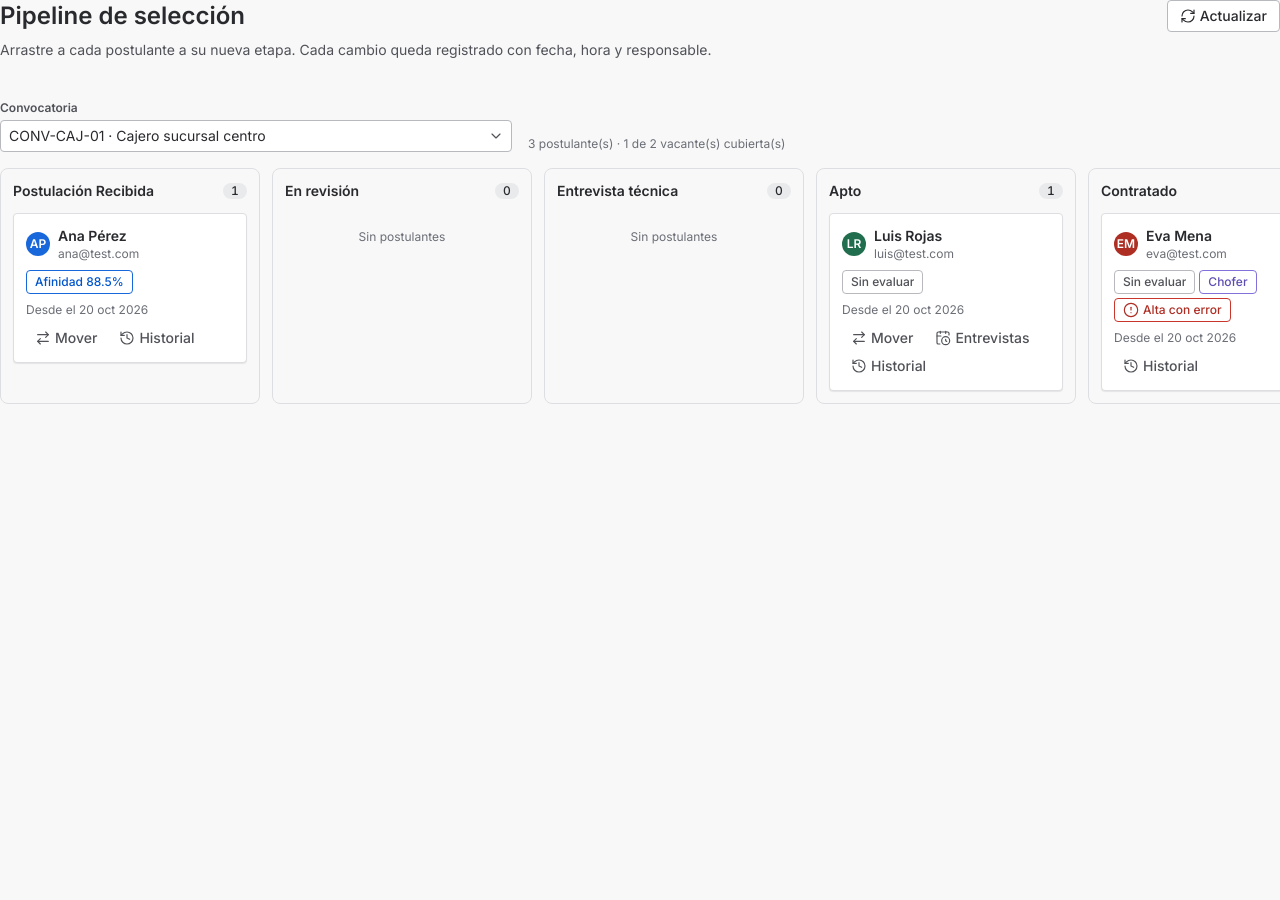
Cambio de etapa › muestra en el modal el error del backend y actualiza el tablero si hubo conflicto
The width and height of the screenshot is (1280, 900).
Click the button "Mover" below "Afinidad 88.5%". click: (66, 338)
box: [26,326,106,350]
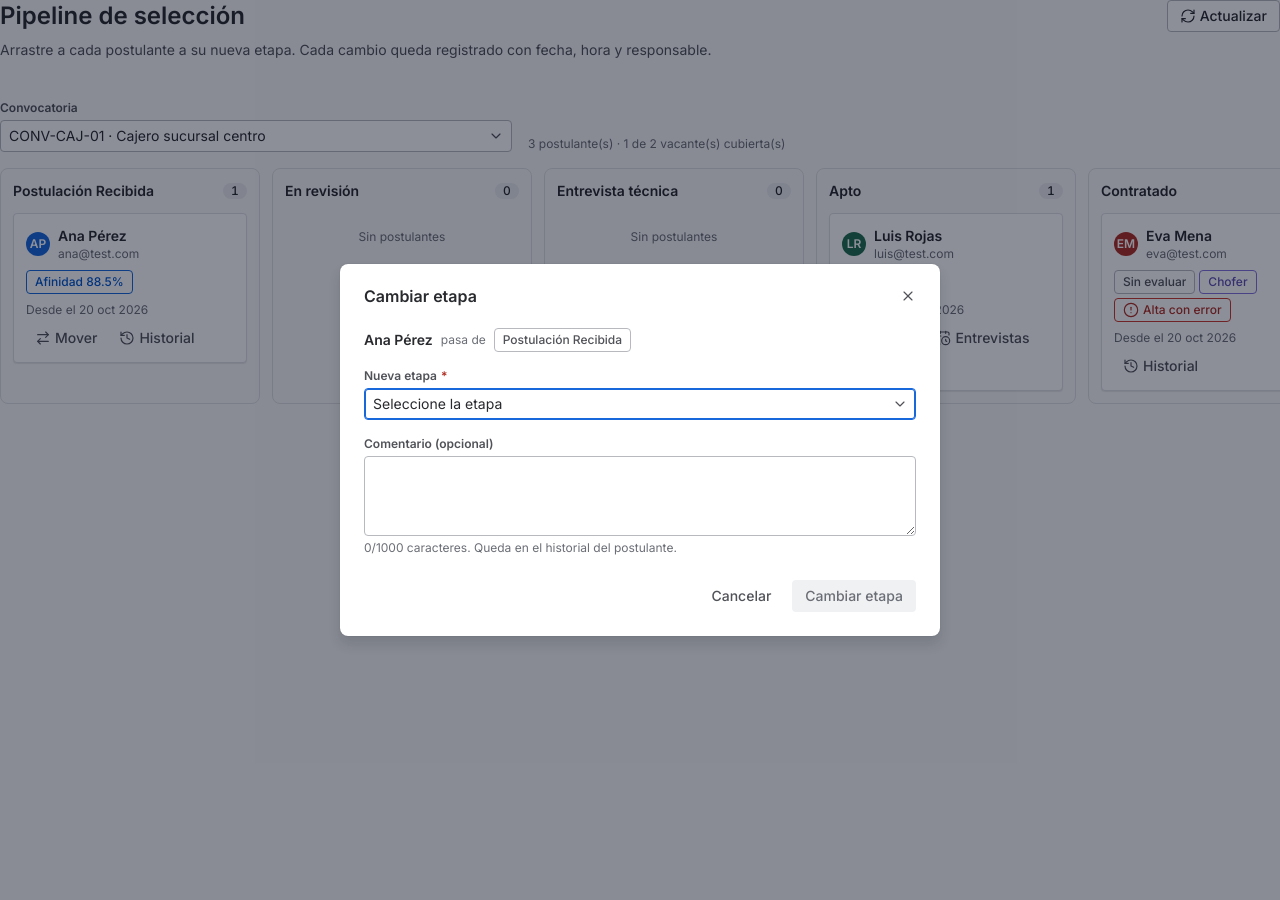
Select "En revisión" in the dropdown labelled "Nueva etapa *". click: (640, 404)
box: [364,388,916,420]
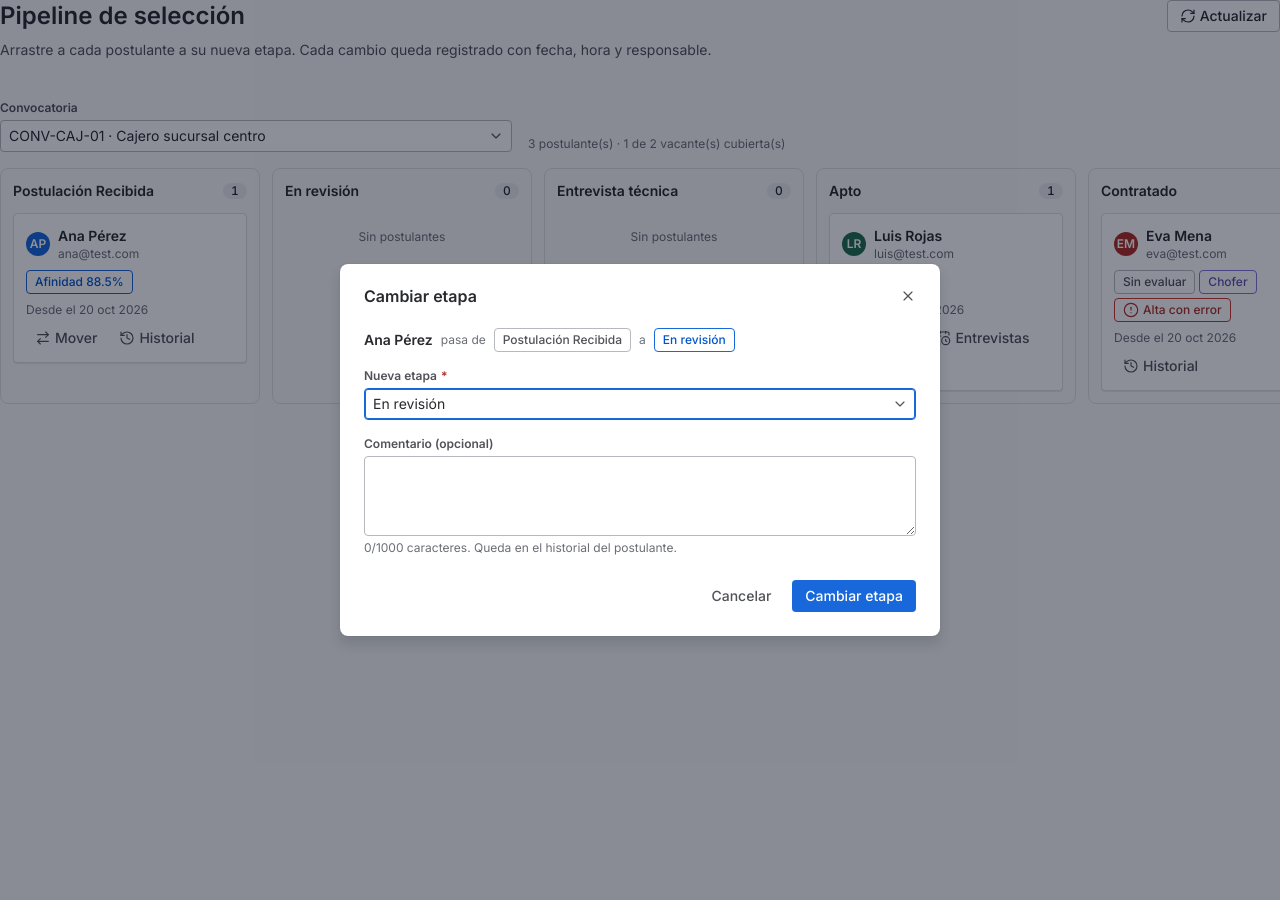
Click the button "Cambiar etapa". click: (854, 596)
box: [792,580,916,612]
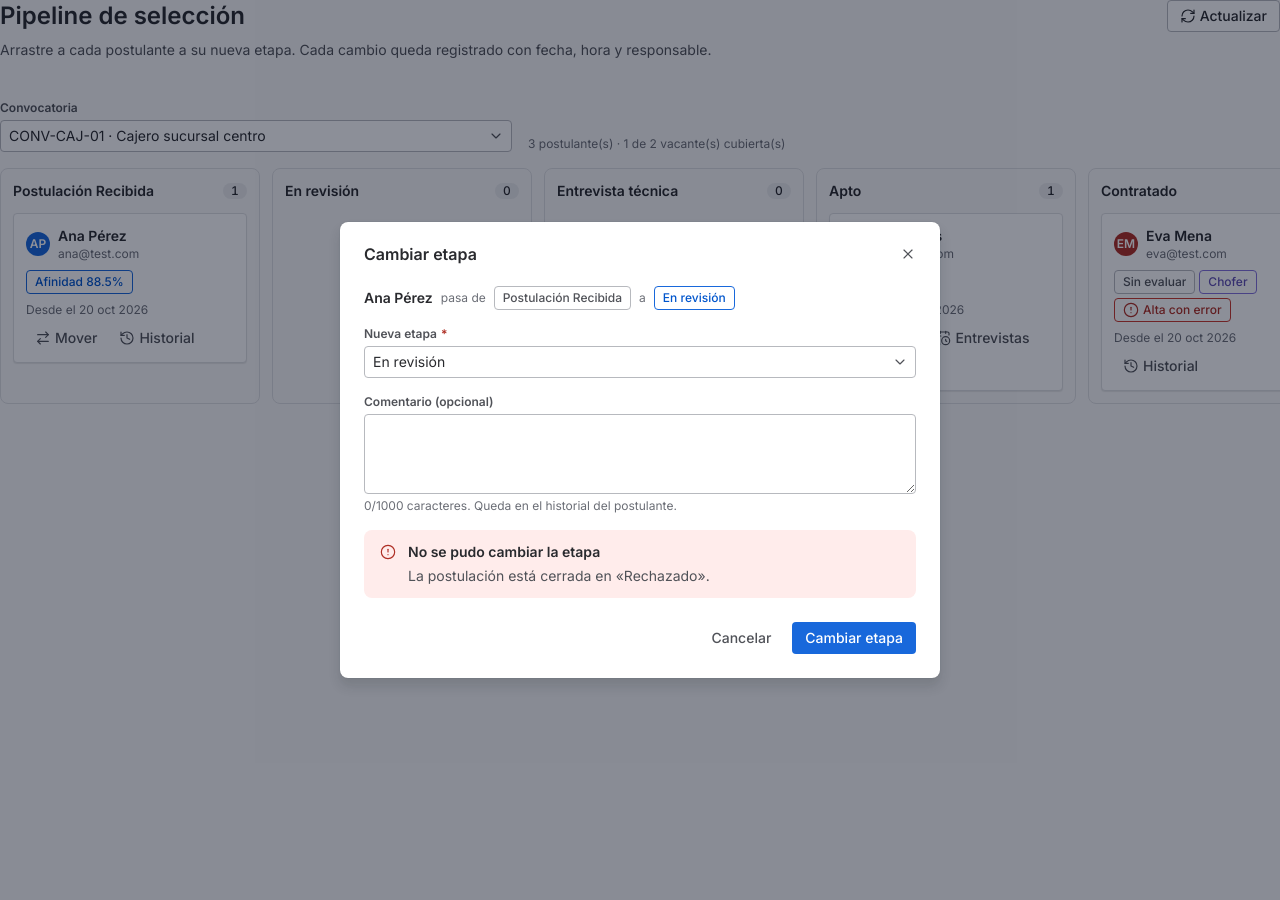
Now the text "La postulación está cerrada en «Rechazado»." is shown, box [408,567,710,584]
